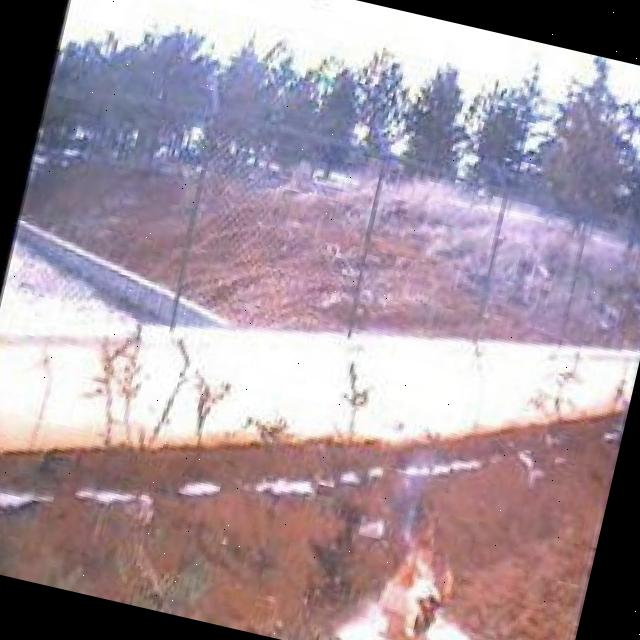fire: (367, 495, 472, 640)
